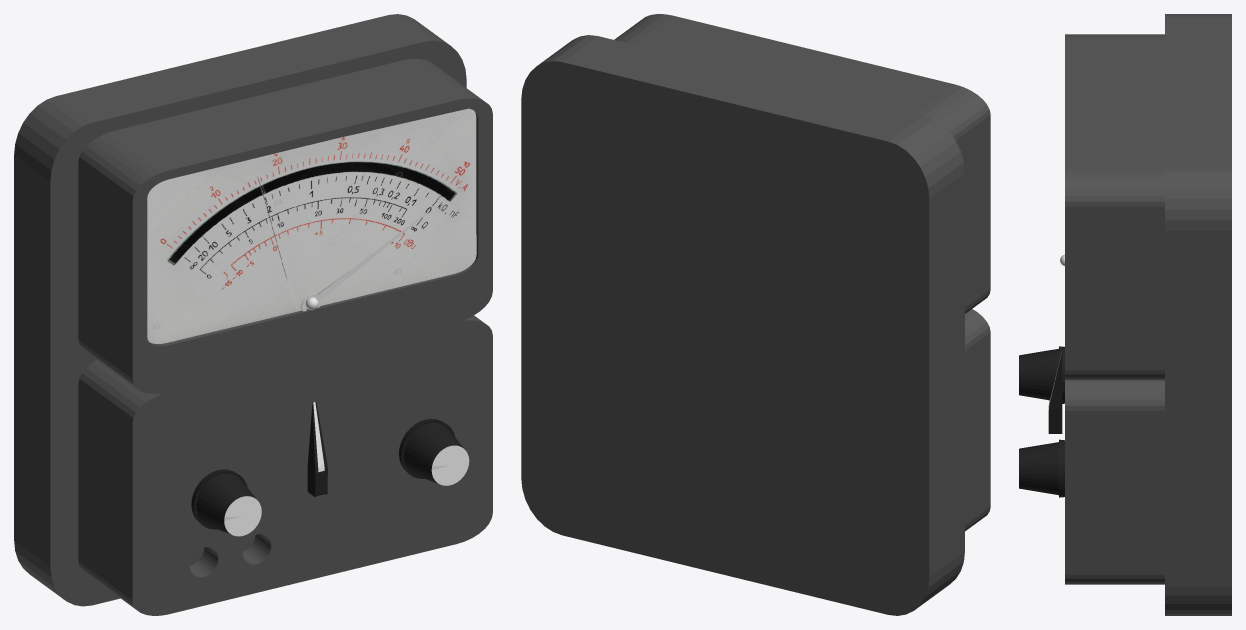
The model's file is Multimetro_multimetro_finalpruebafbx.fbx.
3 views of the same model, side by side, from view 1: azimuth 30°, elevation 25°; view 2: azimuth 150°, elevation 25°; view 3: azimuth 270°, elevation 25° (orthographic). The views are drawn at different scales.
Parts seen in each view (by area): view 1: Abajo, Cube.001, Plane, Atras, Voltaje.000, Voltaje.005, Cube.002, Circle.001; view 2: Atras, Cube.001, Abajo; view 3: Atras, Cube.001, Abajo, Voltaje.005, Voltaje.000, Cube.002.
Part boxes in pixels (x1=…): Abajo: x1=78, y1=315, x2=492, y2=615; Cube.001: x1=78, y1=59, x2=492, y2=394; Plane: x1=147, y1=108, x2=476, y2=343; Atras: x1=14, y1=14, x2=466, y2=606; Voltaje.000: x1=191, y1=469, x2=261, y2=536; Voltaje.005: x1=399, y1=418, x2=469, y2=485; Cube.002: x1=307, y1=402, x2=327, y2=496; Circle.001: x1=301, y1=211, x2=429, y2=311; Atras: x1=521, y1=35, x2=964, y2=615; Cube.001: x1=614, y1=14, x2=990, y2=313; Abajo: x1=965, y1=309, x2=990, y2=531; Atras: x1=1165, y1=14, x2=1231, y2=615; Cube.001: x1=1065, y1=34, x2=1164, y2=380; Abajo: x1=1065, y1=380, x2=1164, y2=584; Voltaje.005: x1=1019, y1=439, x2=1064, y2=497; Voltaje.000: x1=1019, y1=346, x2=1064, y2=403; Cube.002: x1=1048, y1=350, x2=1062, y2=433.
Bounding box in the file's own units: 837 × 928 × 403.
